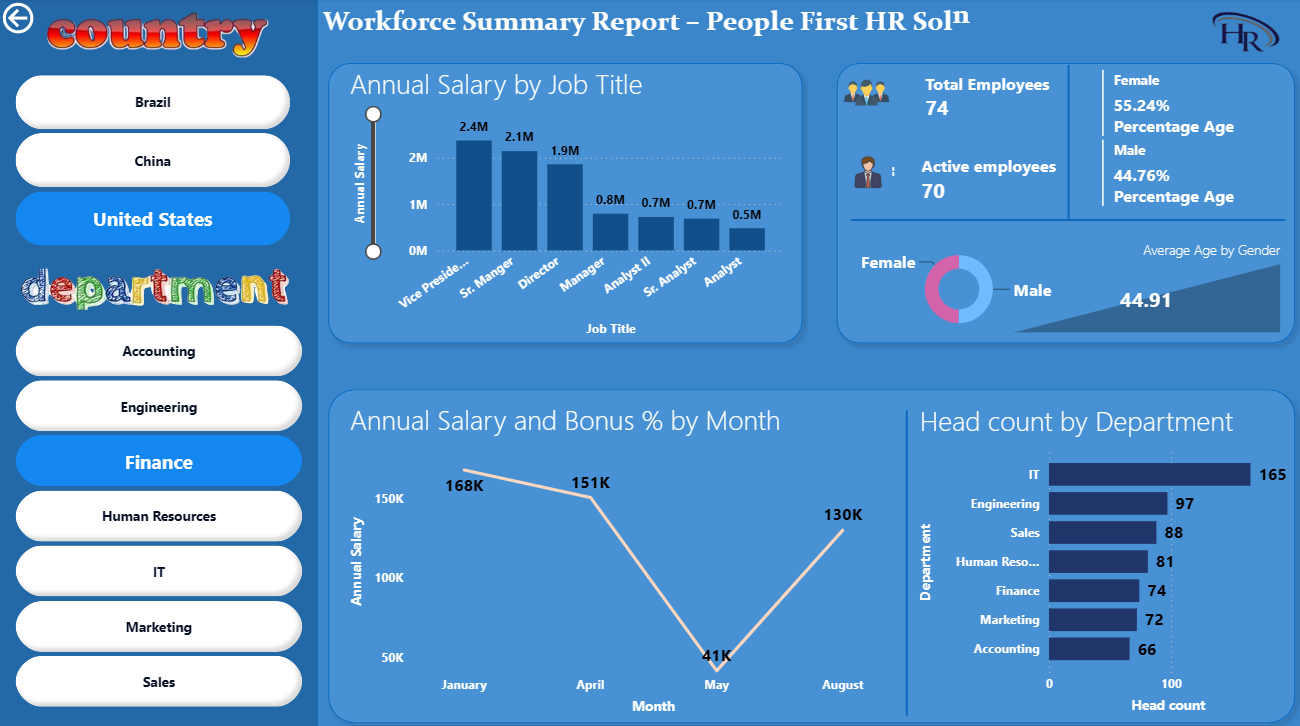

Layout of this report page (visuals, bound fields, positions):
{"tool":"powerbi","page":{"name":"Employee overview","canvas":[1280,720],"ordinal":1},"visuals":[{"type":"shape","box":[314.5,373.9,965.2,344.9],"z":0},{"type":"shape","box":[813,55.1,466.7,292.8],"z":1000},{"type":"shape","box":[314.5,55.1,482.6,292.8],"z":2000},{"type":"shape","box":[0,0,313,718.8],"z":3000},{"type":"textbox","box":[313,0,718.8,55.1],"z":4000},{"type":"barChart","fields":{"Y":["CountNonNull(TBL_Employees (2).Full Name)"],"Category":["TBL_Employees (2).Department"]},"box":[897.1,395.7,381.2,310.1],"z":5000},{"type":"donutChart","fields":{"Y":["Avg(TBL_Employees (2).Age)"],"Category":["TBL_Employees (2).Gender"]},"box":[834.8,237.7,211.6,95.7],"z":6000},{"type":"columnChart","fields":{"Y":["Sum(TBL_Employees (2).Annual Salary)"],"Category":["TBL_Employees (2).Job Title"]},"box":[339.1,65.2,434.8,271],"z":7000},{"type":"cardVisual","fields":{"Data":["CountNonNull(TBL_Employees (2).Full Name)"]},"box":[862.3,55.1,226.1,88.4],"z":8000},{"type":"kpi","title":"Average Age by Gender","fields":{"Indicator":["Avg(TBL_Employees (2).Age)"],"TrendLine":["TBL_Employees (2).Gender"]},"box":[988.4,237.7,272.5,95.7],"z":9000},{"type":"multiRowCard","fields":{"Values":["TBL_Employees (2).Gender","Sum(TBL_Employees (2).Age)"]},"box":[1076.8,65.2,169.6,160.9],"z":10000},{"type":"cardVisual","title":"Active employee by Till Day","fields":{"Data":["CountNonNull(TBL_Employees (2).Hire Date)"],"Rows":["TBL_Employees (2).Exit Date"]},"box":[833.3,120.3,223.2,105.8],"z":11000},{"type":"advancedSlicerVisual","title":"Department ","fields":{"Values":["TBL_Employees (2).Department"]},"box":[11.6,310.1,291.3,395.7],"z":12000},{"type":"actionButton","box":[0,0,100,40],"z":13000},{"type":"image","box":[10.1,259.4,292.8,50.7],"z":14000},{"type":"advancedSlicerVisual","fields":{"Values":["TBL_Employees (2).Country"]},"box":[11.6,65.2,279.7,182.6],"z":15000},{"type":"shape","box":[862.3,402.9,56.5,300],"z":16000},{"type":"shape","box":[834.8,197.1,426.1,40.6],"z":17000},{"type":"shape","box":[1020.3,65.2,56.5,152.2],"z":18000},{"type":"image","box":[11.6,0,291.3,73.9],"z":19000},{"type":"lineChart","fields":{"Category":["TBL_Employees (2).Hire Date.Variation.Date Hierarchy.Year","TBL_Employees (2).Hire Date.Variation.Date Hierarchy.Quarter","TBL_Employees (2).Hire Date.Variation.Date Hierarchy.Month","TBL_Employees (2).Exit Date.Variation.Date Hierarchy.Year","TBL_Employees (2).Exit Date.Variation.Date Hierarchy.Quarter","TBL_Employees (2).Exit Date.Variation.Date Hierarchy.Month"],"Y":["Sum(TBL_Employees (2).Annual Salary)"]},"box":[339.1,394.2,542,313],"z":20000},{"type":"image","box":[827.5,143.5,49.3,55.1],"z":21000},{"type":"image","box":[823.2,63.8,58,56.5],"z":22000},{"type":"image","box":[1178.3,0,101.4,69.6],"z":23000}]}

Visuals, with their boxes in screenshot pixels (x1, y1, x2, y2), scaled from the page's 1280x720 canvas onto the 1300x726 screenshot:
shape: bbox(319, 377, 1299, 725)
shape: bbox(826, 56, 1299, 351)
shape: bbox(319, 56, 810, 351)
shape: bbox(0, 0, 318, 725)
textbox: bbox(318, 0, 1048, 56)
barChart - CountNonNull(TBL_Employees (2).Full Name) x TBL_Employees (2).Department: bbox(911, 399, 1298, 712)
donutChart - Avg(TBL_Employees (2).Age) x TBL_Employees (2).Gender: bbox(848, 240, 1063, 336)
columnChart - Sum(TBL_Employees (2).Annual Salary) x TBL_Employees (2).Job Title: bbox(344, 66, 786, 339)
cardVisual - CountNonNull(TBL_Employees (2).Full Name): bbox(876, 56, 1105, 145)
"Average Age by Gender" kpi: bbox(1004, 240, 1281, 336)
multiRowCard - TBL_Employees (2).Gender x Sum(TBL_Employees (2).Age): bbox(1094, 66, 1266, 228)
"Active employee by Till Day" cardVisual: bbox(846, 121, 1073, 228)
"Department " advancedSlicerVisual: bbox(12, 313, 308, 712)
actionButton: bbox(0, 0, 102, 40)
image: bbox(10, 262, 308, 313)
advancedSlicerVisual - TBL_Employees (2).Country: bbox(12, 66, 296, 250)
shape: bbox(876, 406, 933, 709)
shape: bbox(848, 199, 1281, 240)
shape: bbox(1036, 66, 1094, 219)
image: bbox(12, 0, 308, 75)
lineChart - TBL_Employees (2).Hire Date.Variation.Date Hierarchy.Year x TBL_Employees (2).Hire Date.Variation.Date Hierarchy.Quarter: bbox(344, 397, 895, 713)
image: bbox(840, 145, 890, 200)
image: bbox(836, 64, 895, 121)
image: bbox(1197, 0, 1299, 70)
